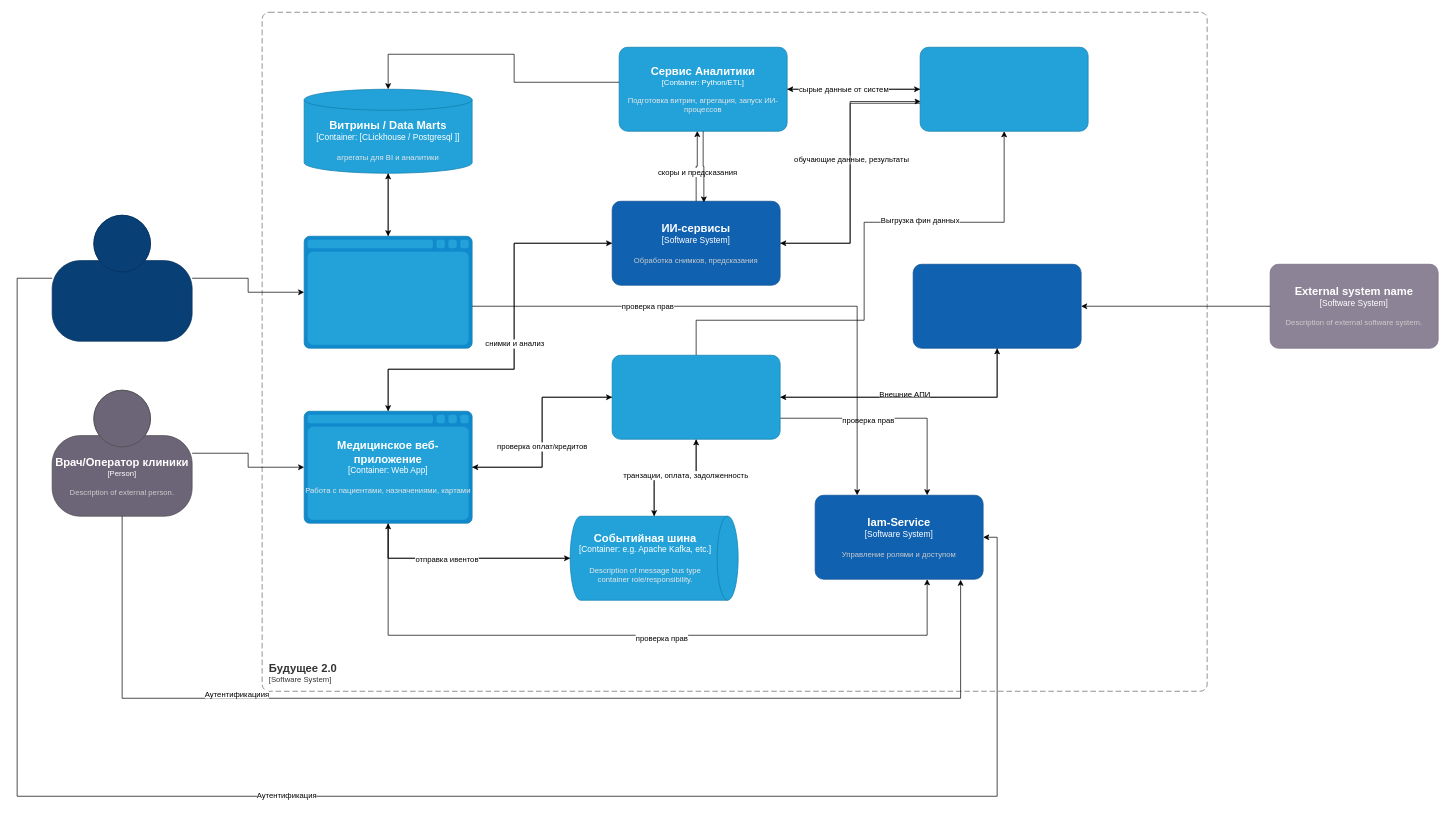
Image size: 1450x814. Some labels were removed from this diagram. Each missing label, with the centre of its shape:
BI-портал [Container: [Power Bi / Web]] self-service отчеты и дашборды: (387,292)
Data Lake [Container: S3/Parquet] Сырое хранилище данных всех систем: (1003,89)
Бизнес-пользователь [Person] Использует витрину для анализа и отчётов: (121,278)
Интеграционный шлюз [Software System] Description of software system.: (996,306)
Финансовая система [Container: Golang/Java] Кредиты, оплата, счета: (695,397)
